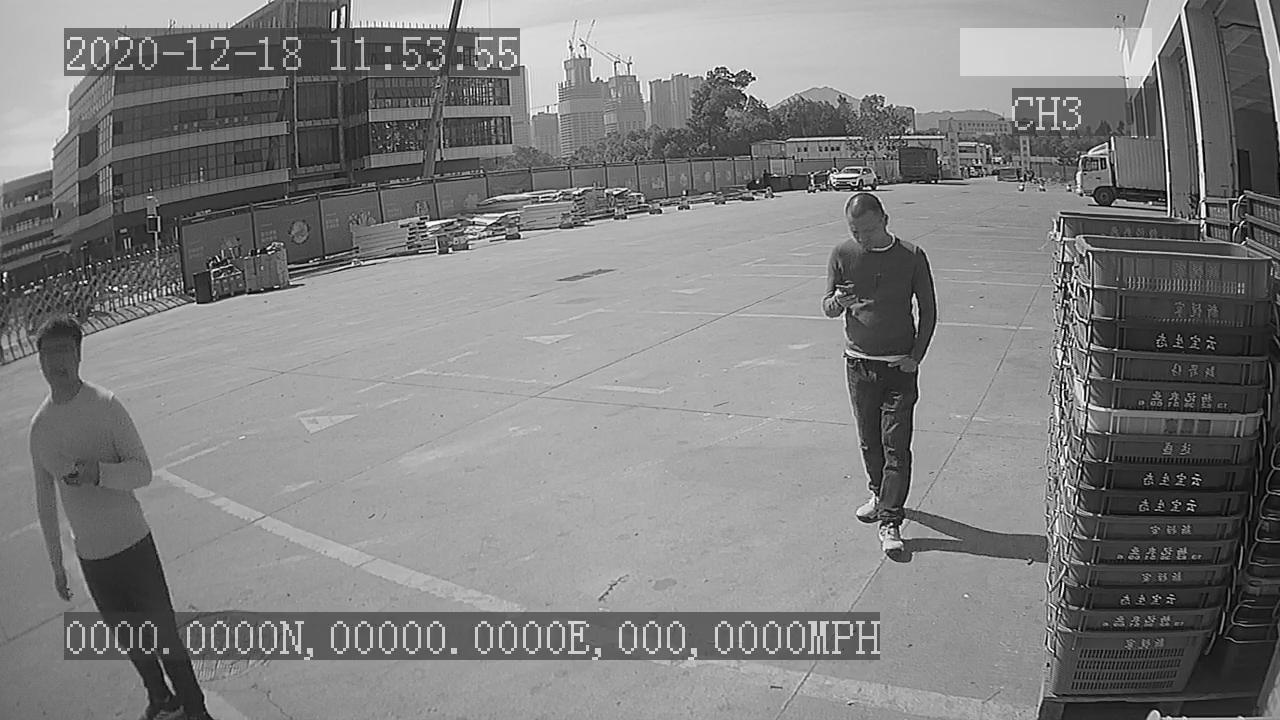person: (809, 188, 943, 572)
